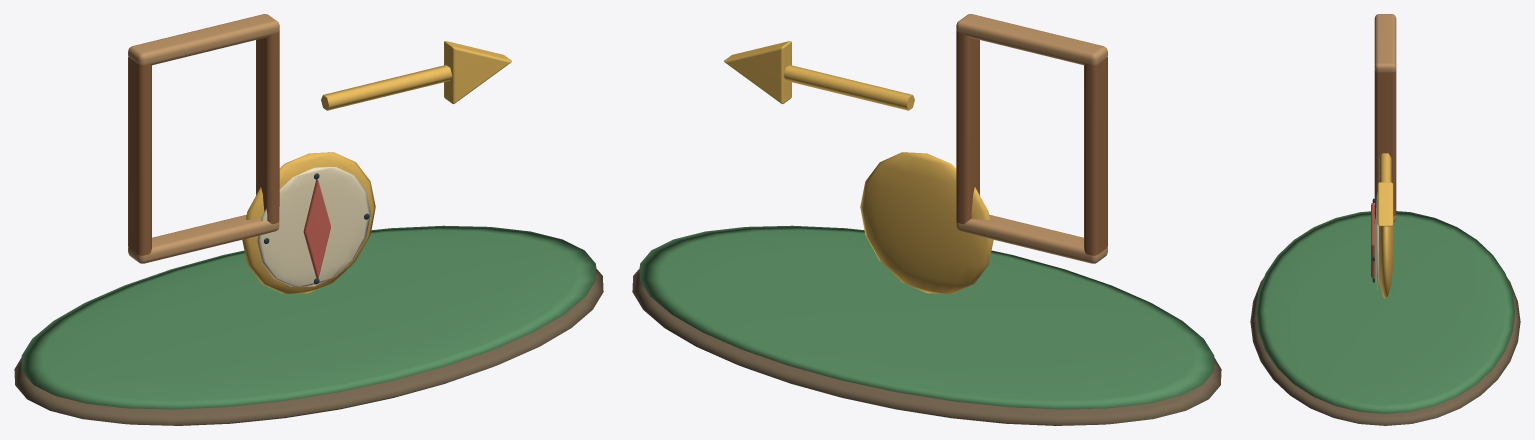
The model's file is complete-second-square-toward-direction.glb.
3 renders of one model, left to right at view 1: azimuth 30°, elevation 25°; view 2: azimuth 150°, elevation 25°; view 3: azimuth 270°, elevation 25°, orthographic. The views are drawn at different scales.
Parts seen in each view (by area): view 1: complete-second-square-toward-direction_surface_01, complete-second-square-toward-direction_surface_00, complete-second-square-toward-direction_surface_02, complete-second-square-toward-direction_surface_05, complete-second-square-toward-direction_surface_04, complete-second-square-toward-direction_surface_03, complete-second-square-toward-direction_surface_06; view 2: complete-second-square-toward-direction_surface_01, complete-second-square-toward-direction_surface_04, complete-second-square-toward-direction_surface_00, complete-second-square-toward-direction_surface_02, complete-second-square-toward-direction_surface_03; view 3: complete-second-square-toward-direction_surface_01, complete-second-square-toward-direction_surface_00, complete-second-square-toward-direction_surface_02, complete-second-square-toward-direction_surface_04, complete-second-square-toward-direction_surface_03, complete-second-square-toward-direction_surface_05, complete-second-square-toward-direction_surface_06.
Boxes of the visible parts, x1,y1,x2,y2 form: complete-second-square-toward-direction_surface_01: (21,225,596,409); complete-second-square-toward-direction_surface_00: (14,268,603,425); complete-second-square-toward-direction_surface_02: (128,31,279,255); complete-second-square-toward-direction_surface_05: (257,167,370,286); complete-second-square-toward-direction_surface_04: (242,41,511,293); complete-second-square-toward-direction_surface_03: (128,14,279,263); complete-second-square-toward-direction_surface_06: (303,179,330,279); complete-second-square-toward-direction_surface_01: (639,225,1214,409); complete-second-square-toward-direction_surface_04: (724,41,993,293); complete-second-square-toward-direction_surface_00: (632,268,1221,425); complete-second-square-toward-direction_surface_02: (956,31,1107,255); complete-second-square-toward-direction_surface_03: (956,14,1107,263); complete-second-square-toward-direction_surface_01: (1256,211,1514,413); complete-second-square-toward-direction_surface_00: (1250,277,1520,425); complete-second-square-toward-direction_surface_02: (1374,70,1396,216); complete-second-square-toward-direction_surface_04: (1377,153,1394,298); complete-second-square-toward-direction_surface_03: (1374,14,1396,221); complete-second-square-toward-direction_surface_05: (1375,191,1378,289); complete-second-square-toward-direction_surface_06: (1371,202,1374,278).
Size of the model in its own units: 4.56 by 2.62 by 2.5.
